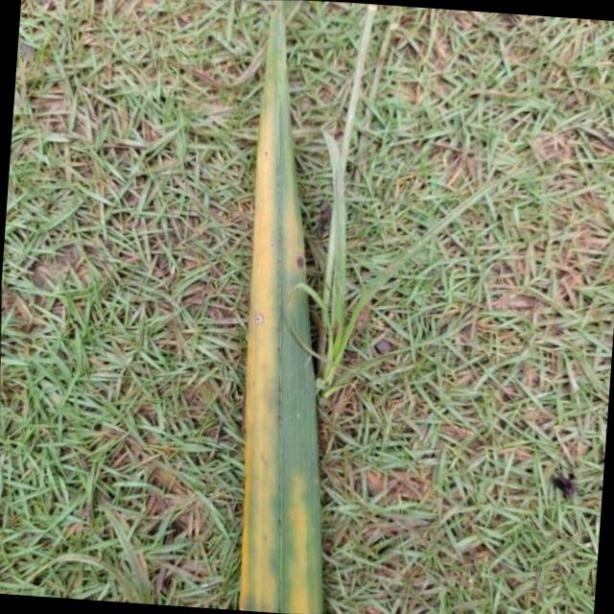Megnesium: (241, 1, 326, 614)
